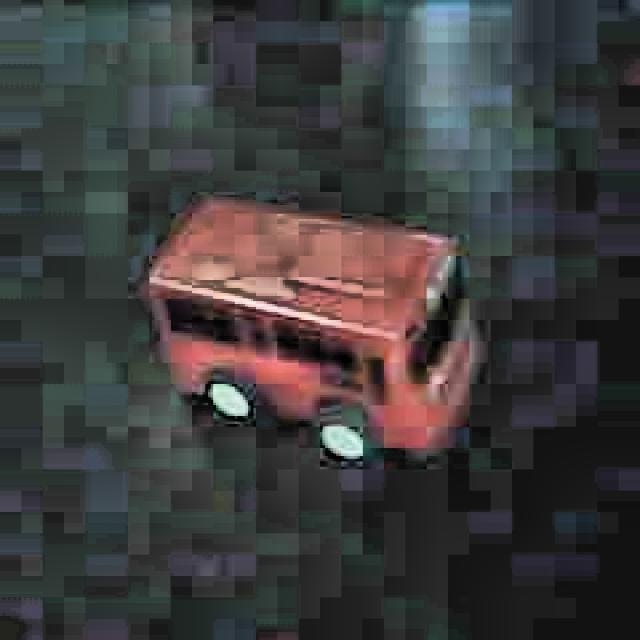bus: (135, 178, 485, 486)
